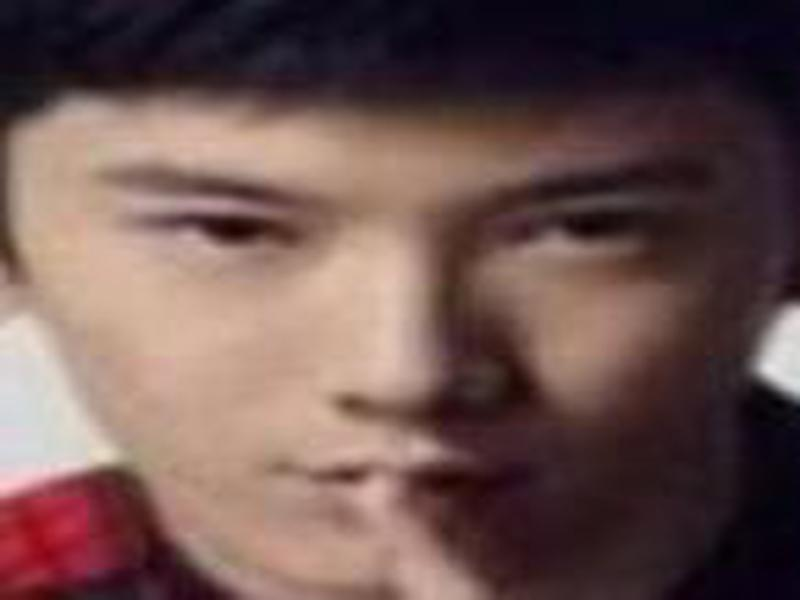without_mask: (4, 77, 785, 581)
